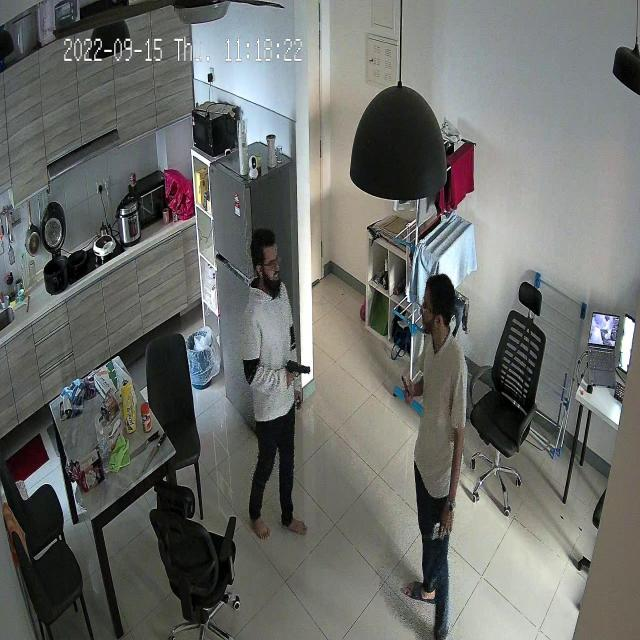Gun: (272, 348, 319, 388)
